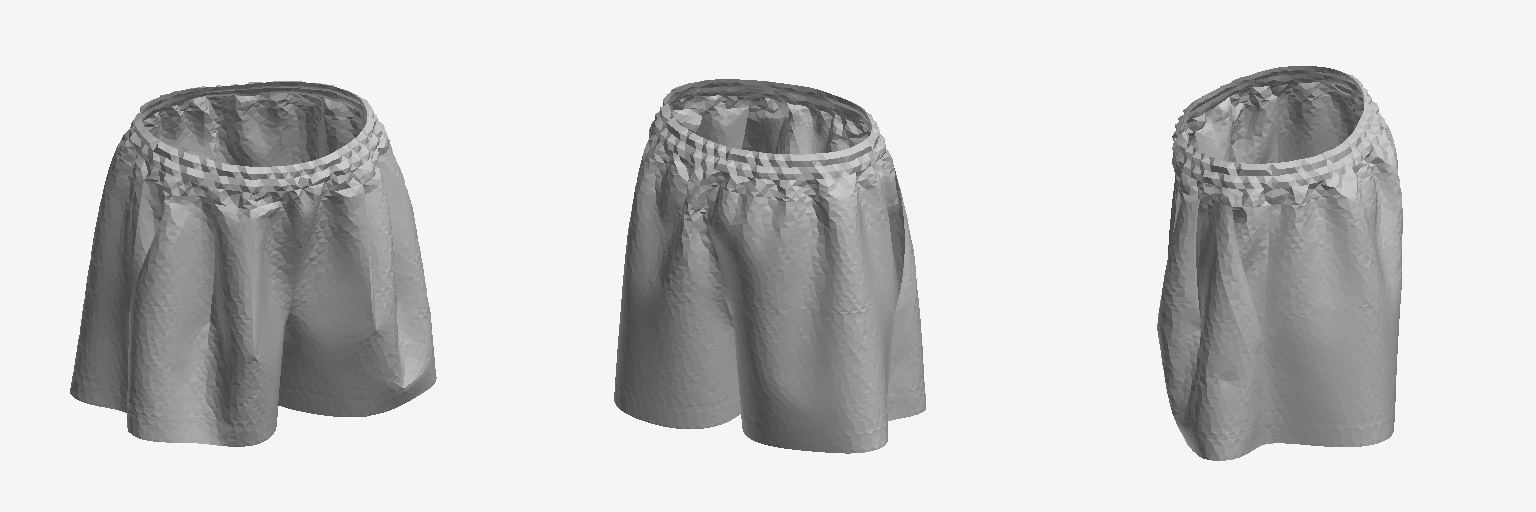
Rendered from Large_Tall.obj.
3 renders of one model, left to right at view 1: azimuth 30°, elevation 25°; view 2: azimuth 150°, elevation 25°; view 3: azimuth 270°, elevation 25°, orthographic.
Visible parts, largest first — view 1: duanku.003; view 2: duanku.003; view 3: duanku.003.
Boxes of the visible parts, box(x1,y1,x2,y2) form: duanku.003: box(70, 81, 436, 446); duanku.003: box(614, 79, 925, 453); duanku.003: box(1157, 66, 1402, 460).
Size of the model in its own units: 0.558 by 0.5179 by 0.398.